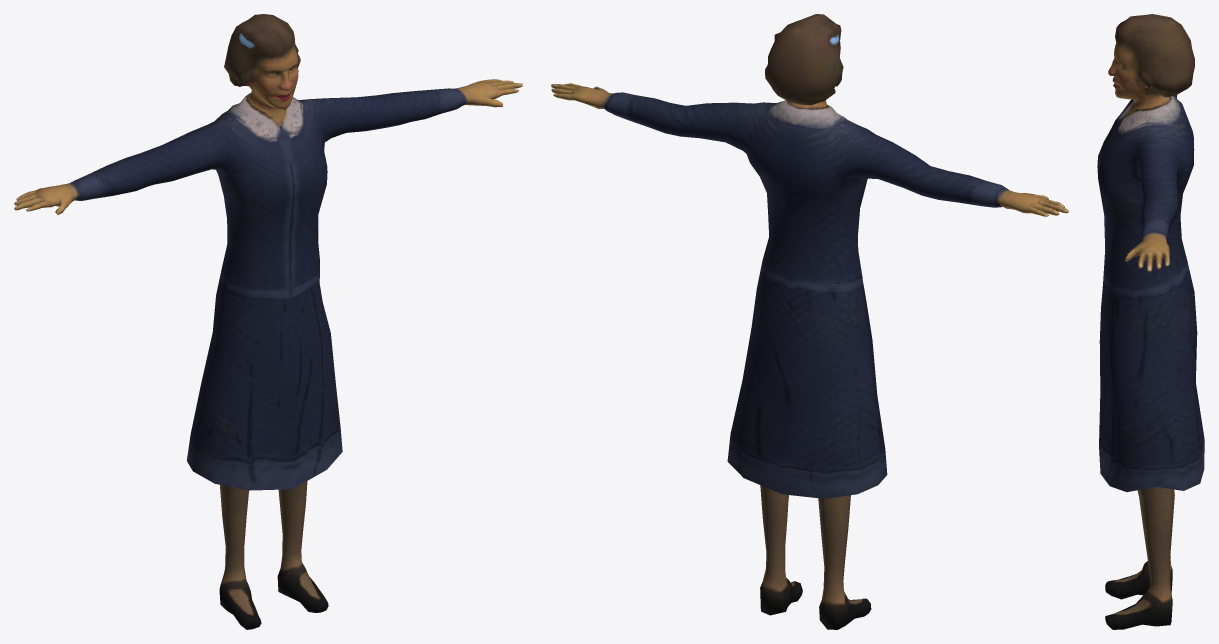
File: Minnie_Becker.fbx
3 renders of one model, left to right at view 1: azimuth 30°, elevation 25°; view 2: azimuth 150°, elevation 25°; view 3: azimuth 270°, elevation 25°, orthographic.
Parts seen in each view (by area): view 1: MinnieBecker:Minnie_Becker1; view 2: MinnieBecker:Minnie_Becker1; view 3: MinnieBecker:Minnie_Becker1.
Boxes of the visible parts, <box> form: MinnieBecker:Minnie_Becker1: <box>14,14,522,629</box>; MinnieBecker:Minnie_Becker1: <box>551,14,1068,629</box>; MinnieBecker:Minnie_Becker1: <box>1097,14,1204,629</box>.
Bounding box in the file's own units: 1.73 × 1.92 × 0.3126.
